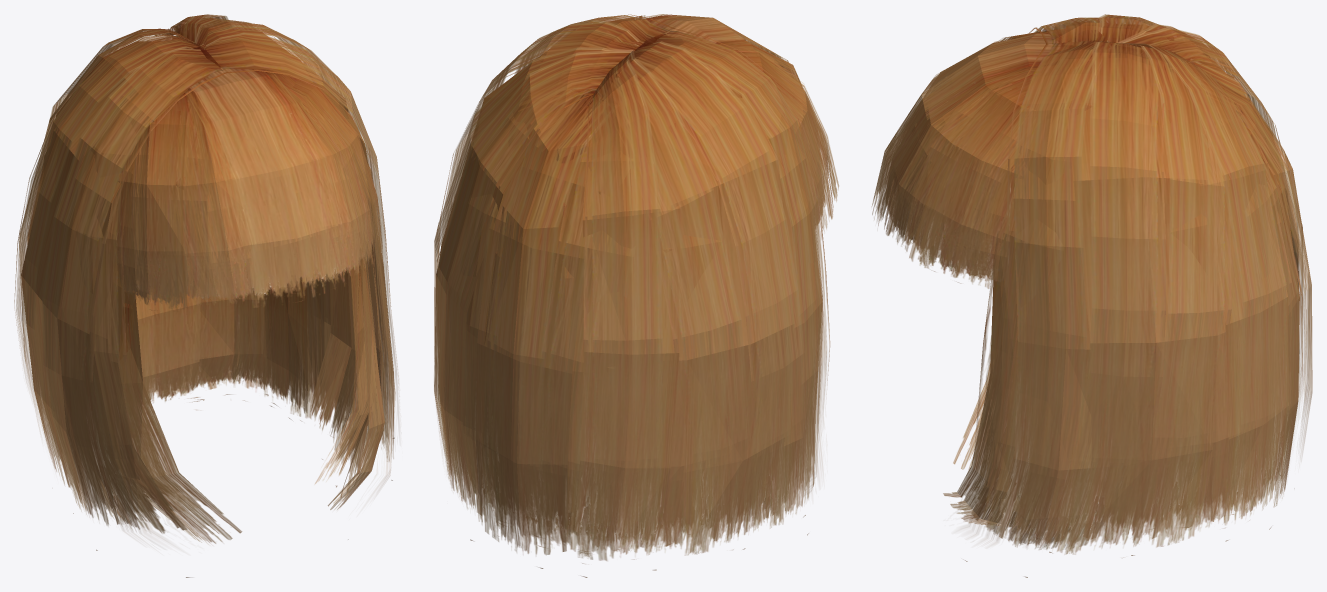
The model's file is mh_witchy_lil_bob.glb.
3 renders of one model, left to right at view 1: azimuth 30°, elevation 25°; view 2: azimuth 150°, elevation 25°; view 3: azimuth 270°, elevation 25°, orthographic. The views are drawn at different scales.
Visible parts, largest first — view 1: witchybob_elv2; view 2: witchybob_elv2; view 3: witchybob_elv2.
Boxes of the visible parts, x1,y1,x2,y2 form: witchybob_elv2: (14, 14, 398, 577); witchybob_elv2: (434, 14, 838, 577); witchybob_elv2: (872, 14, 1312, 577).
Size of the model in its own units: 0.2122 by 0.2888 by 0.2353.
Materials: 1 (1 with a texture image).
